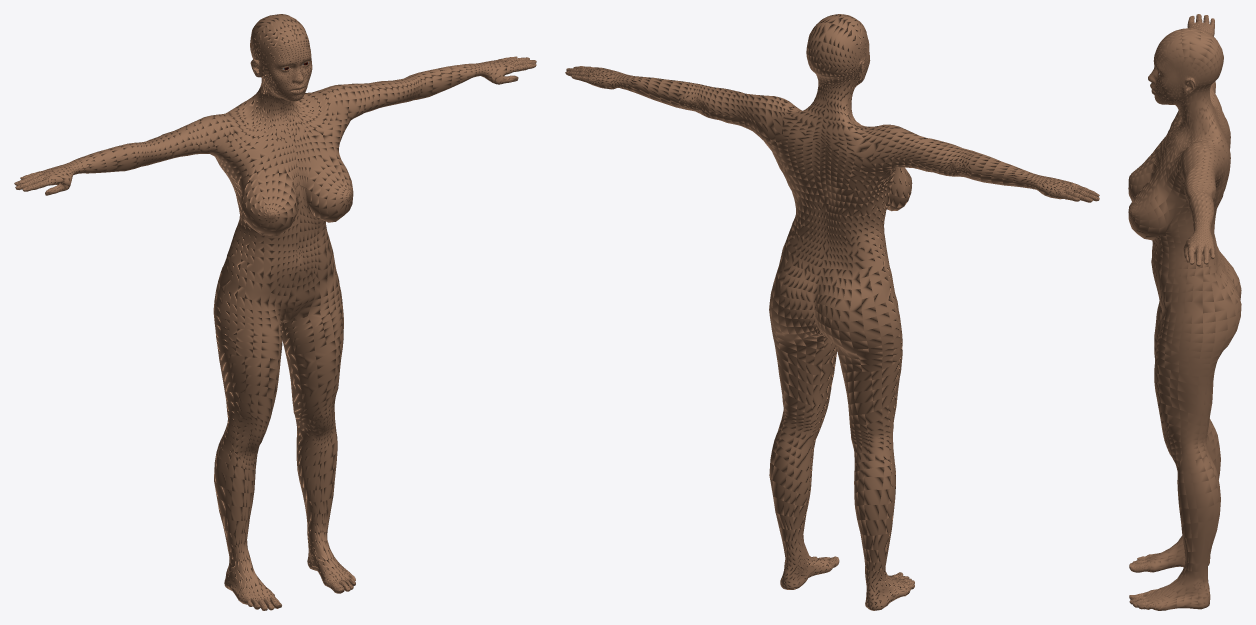
3 renders of one model, left to right at view 1: azimuth 30°, elevation 25°; view 2: azimuth 150°, elevation 25°; view 3: azimuth 270°, elevation 25°, orthographic. The views are drawn at different scales.
Visible parts, largest first — view 1: female_genericMesh; view 2: female_genericMesh; view 3: female_genericMesh.
Boxes of the visible parts, left/top/right/bottom form: female_genericMesh: left=14, top=14, right=536, bottom=610; female_genericMesh: left=565, top=14, right=1099, bottom=610; female_genericMesh: left=1128, top=14, right=1241, bottom=610.
Size of the model in its own units: 154 by 159 by 29.35.
Materials: 2 (1 with a texture image).
